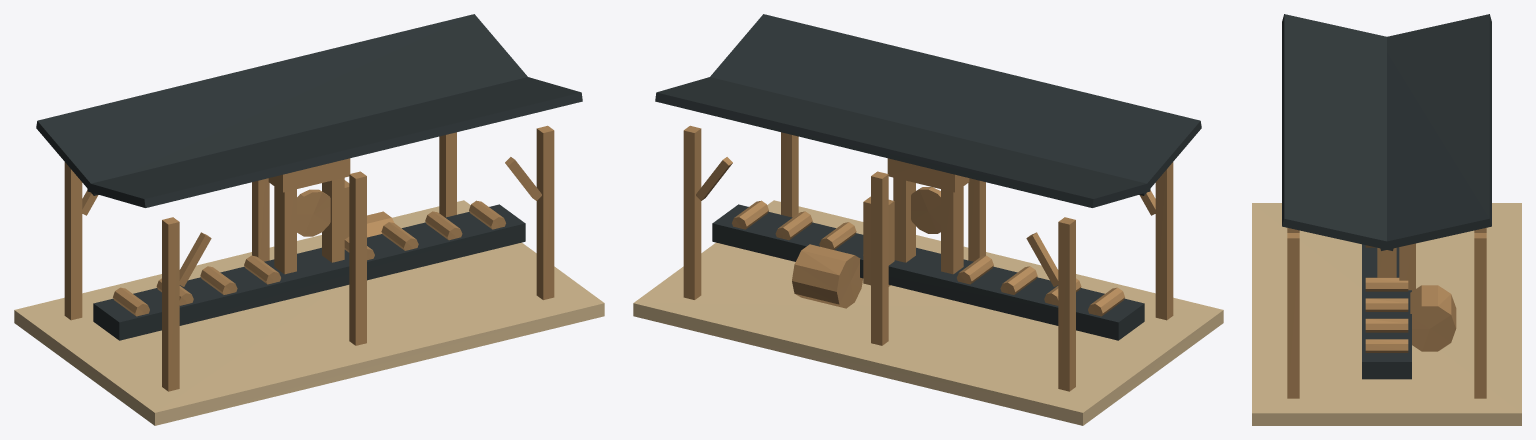
File: sawmill.source.glb
3 renders of one model, left to right at view 1: azimuth 30°, elevation 25°; view 2: azimuth 150°, elevation 25°; view 3: azimuth 270°, elevation 25°, orthographic. The views are drawn at different scales.
Visible parts, largest first — view 1: sawmill-grounded-concrete-strip-mesh, sawmill-shallow-metal-roof-rear-mesh, sawmill-shallow-metal-roof-front-mesh, sawmill-long-log-carriage-bed-mesh, sawmill-slim-shelter-post-3-1.35-mesh, sawmill-slim-shelter-post--3-1.35-mesh, sawmill-slim-shelter-post-0-1.35-mesh, sawmill-slim-shelter-post--3--1.35-mesh, sawmill-vertical-saw-column-left-mesh, sawmill-vertical-saw-column-right-mesh, sawmill-slim-shelter-post-3--1.35-mesh, sawmill-guarded-saw-head-mesh (+9 smaller); view 2: sawmill-grounded-concrete-strip-mesh, sawmill-shallow-metal-roof-front-mesh, sawmill-shallow-metal-roof-rear-mesh, sawmill-long-log-carriage-bed-mesh, sawmill-teal-drive-motor-mesh, sawmill-slim-shelter-post-3--1.35-mesh, sawmill-slim-shelter-post--3--1.35-mesh, sawmill-slim-shelter-post-0--1.35-mesh, sawmill-slim-shelter-post--3-1.35-mesh, sawmill-vertical-saw-column-left-mesh, sawmill-vertical-saw-column-right-mesh, sawmill-slim-shelter-post-3-1.35-mesh (+11 smaller); view 3: sawmill-grounded-concrete-strip-mesh, sawmill-shallow-metal-roof-rear-mesh, sawmill-shallow-metal-roof-front-mesh, sawmill-long-log-carriage-bed-mesh, sawmill-teal-drive-motor-mesh, sawmill-slim-shelter-post-3--1.35-mesh, sawmill-slim-shelter-post-3-1.35-mesh, sawmill-belt-housing-mesh, sawmill-carriage-roller-2-15-mesh, sawmill-carriage-roller-0-75-mesh, sawmill-carriage-roller-1-45-mesh, sawmill-carriage-roller-2-85-mesh (+1 smaller).
Boxes of the visible parts, box(x1,y1,x2,y2) form: sawmill-grounded-concrete-strip-mesh: box(14, 200, 604, 425); sawmill-shallow-metal-roof-rear-mesh: box(36, 14, 527, 195); sawmill-shallow-metal-roof-front-mesh: box(87, 77, 582, 207); sawmill-long-log-carriage-bed-mesh: box(93, 204, 525, 340); sawmill-slim-shelter-post-3-1.35-mesh: box(536, 125, 554, 299); sawmill-slim-shelter-post--3-1.35-mesh: box(162, 217, 179, 391); sawmill-slim-shelter-post-0-1.35-mesh: box(349, 171, 366, 345); sawmill-slim-shelter-post--3--1.35-mesh: box(64, 162, 82, 320); sawmill-vertical-saw-column-left-mesh: box(274, 186, 296, 274); sawmill-vertical-saw-column-right-mesh: box(322, 177, 344, 262); sawmill-slim-shelter-post-3--1.35-mesh: box(439, 132, 456, 217); sawmill-guarded-saw-head-mesh: box(268, 158, 350, 192); sawmill-grounded-concrete-strip-mesh: box(633, 200, 1223, 425); sawmill-shallow-metal-roof-front-mesh: box(710, 14, 1201, 195); sawmill-shallow-metal-roof-rear-mesh: box(655, 77, 1151, 207); sawmill-long-log-carriage-bed-mesh: box(712, 204, 1144, 340); sawmill-teal-drive-motor-mesh: box(792, 244, 862, 308); sawmill-slim-shelter-post-3--1.35-mesh: box(683, 125, 701, 299); sawmill-slim-shelter-post--3--1.35-mesh: box(1058, 217, 1075, 391); sawmill-slim-shelter-post-0--1.35-mesh: box(871, 171, 888, 345); sawmill-slim-shelter-post--3-1.35-mesh: box(1155, 162, 1173, 320); sawmill-vertical-saw-column-left-mesh: box(941, 186, 963, 274); sawmill-vertical-saw-column-right-mesh: box(893, 177, 915, 262); sawmill-slim-shelter-post-3-1.35-mesh: box(781, 132, 798, 217); sawmill-grounded-concrete-strip-mesh: box(1252, 203, 1521, 425); sawmill-shallow-metal-roof-rear-mesh: box(1379, 14, 1491, 250); sawmill-shallow-metal-roof-front-mesh: box(1282, 14, 1393, 250); sawmill-long-log-carriage-bed-mesh: box(1362, 244, 1411, 379); sawmill-teal-drive-motor-mesh: box(1410, 285, 1456, 351); sawmill-slim-shelter-post-3--1.35-mesh: box(1474, 233, 1486, 398); sawmill-slim-shelter-post-3-1.35-mesh: box(1287, 233, 1299, 398); sawmill-belt-housing-mesh: box(1399, 243, 1415, 291); sawmill-carriage-roller-2-15-mesh: box(1365, 318, 1408, 332); sawmill-carriage-roller-0-75-mesh: box(1365, 277, 1408, 291); sawmill-carriage-roller-1-45-mesh: box(1365, 298, 1408, 311); sawmill-carriage-roller-2-85-mesh: box(1365, 339, 1408, 352).
Bounding box in the file's own units: 7.2 × 3.26 × 3.9.
